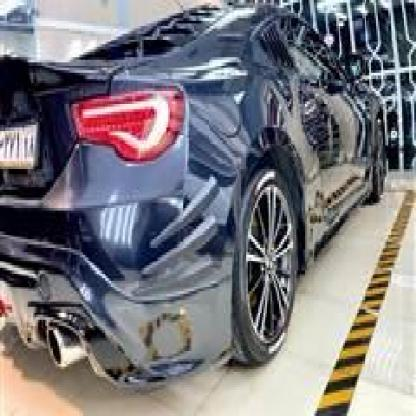Car: (0, 0, 390, 390)
